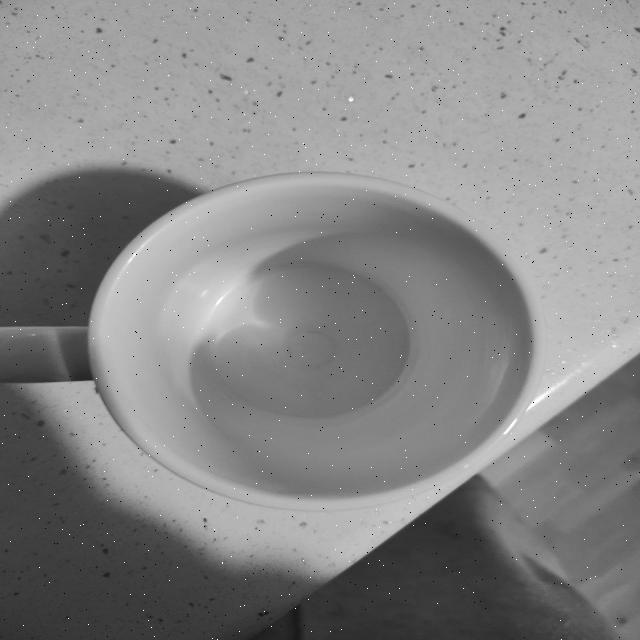Circle: (93, 172, 539, 513)
